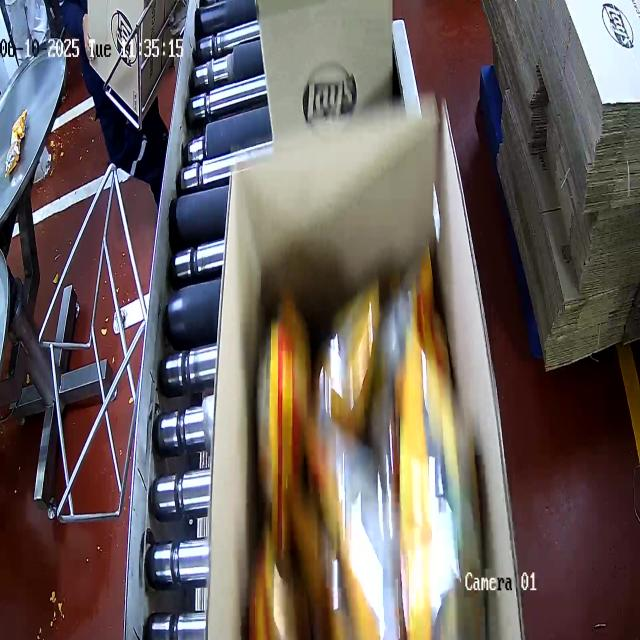FRENCH_CHEESE: (242, 254, 466, 640)
